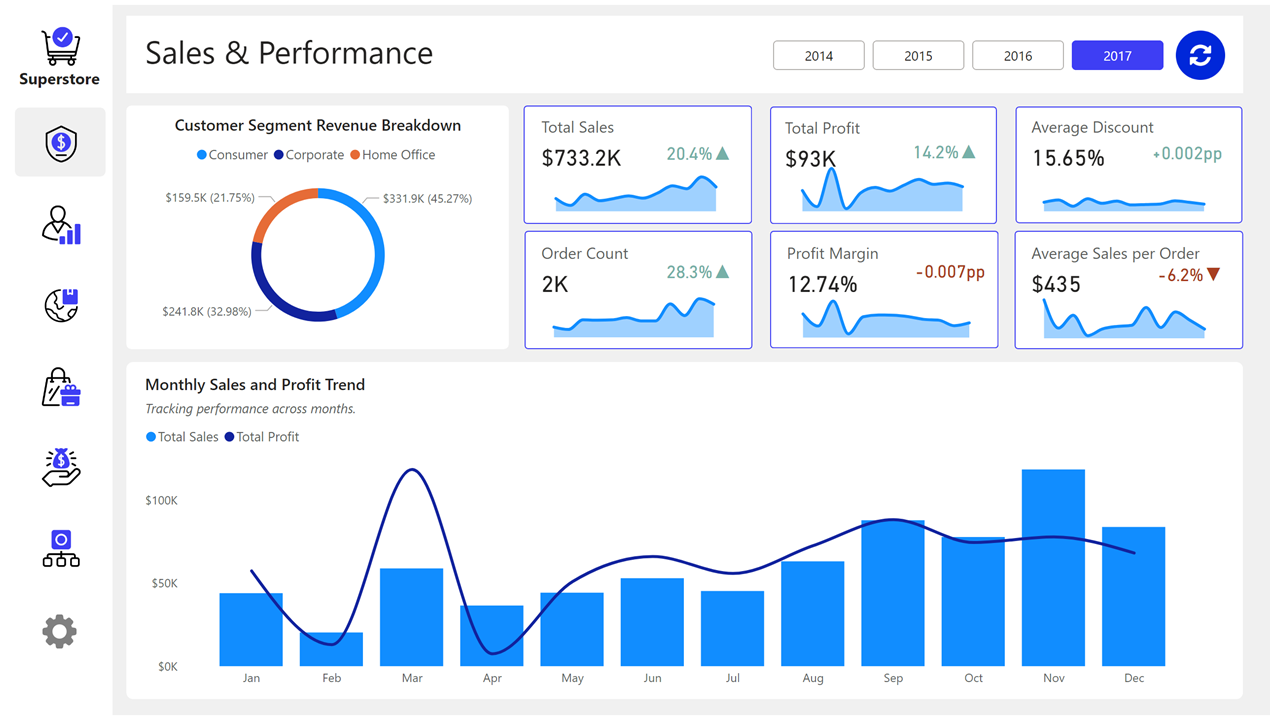

This screenshot's page, from the dashboard's own definition file:
{"tool":"powerbi","page":{"name":"Sales & Performance","canvas":[1280,720],"ordinal":1},"visuals":[{"type":"shape","box":[120,361.8,1132.7,341.8],"z":0},{"type":"shape","box":[120,102,388,247],"z":1000},{"type":"shape","box":[772.5,102.5,230,119.2],"z":2000},{"type":"shape","box":[523.3,101.7,231.7,120],"z":3000},{"type":"cardVisual","fields":{"Data":["Measures_.Total Sales"]},"box":[523.6,95,149,89],"z":4000},{"type":"lineClusteredColumnComboChart","title":"Monthly Sales and Profit Trend","fields":{"Category":["Order Date.Month"],"Y":["Measures_.Total Sales"],"Y2":["Measures_.Total Profit"]},"box":[133.5,373.1,1115.3,327.3],"z":5000},{"type":"donutChart","title":"Customer Segment Revenue Breakdown","fields":{"Category":["Customers.Customer Segment"],"Y":["Measures_.Total Sales"]},"box":[122.9,110,382.9,235.7],"z":6000},{"type":"shape","box":[120,11.4,1132.9,78.6],"z":7000},{"type":"textbox","box":[134.3,20,331.4,62.9],"z":8000},{"type":"advancedSlicerVisual","fields":{"Values":["Order Date.Year"]},"box":[771.4,31.4,408.6,40],"z":9000},{"type":"shape","box":[0,0,106,720],"z":10000},{"type":"image","box":[28.5,362,50,50],"z":11000},{"type":"image","box":[29.5,526,48,50],"z":12000},{"type":"image","box":[28.5,444,50,50],"z":13000},{"type":"shape","box":[6.9,104,92,70],"z":14000},{"type":"image","box":[29.5,116,48,50],"z":15000},{"type":"image","box":[31.5,280,44,50],"z":16000},{"type":"image","box":[28.5,198,50,50],"z":17000},{"type":"image","box":[25,17.1,56.7,50],"z":18000},{"type":"textbox","box":[3.3,58.3,98.3,41.7],"z":19000},{"type":"image","box":[1170,21.4,78.6,60],"z":20000},{"type":"cardVisual","fields":{"Data":["Measures_.Total Profit"]},"box":[771.1,95.6,115.2,89],"z":21000},{"type":"shape","box":[523.6,229,231,120],"z":22000},{"type":"cardVisual","fields":{"Data":["Measures_.Order Count"]},"box":[523.6,223.3,130,87.8],"z":23000},{"type":"shape","box":[772.5,229.2,231.7,119.2],"z":24000},{"type":"cardVisual","fields":{"Data":["Measures_.Profit Margin"]},"box":[772.9,222.5,130,87.8],"z":25000},{"type":"shape","box":[1021.7,103.3,230,118.3],"z":26000},{"type":"cardVisual","fields":{"Data":["Measures_.Average Discount"]},"box":[1021,95,162,89],"z":27000},{"type":"shape","box":[1020.9,229.1,231.8,120],"z":28000},{"type":"cardVisual","fields":{"Data":["Measures_.Average Sales per Order"]},"box":[1021.1,223.3,227.8,87.8],"z":29000},{"type":"card","fields":{"Values":["Measures_.Sales YoY %"]},"box":[660.8,132.9,80,35.7],"z":30000},{"type":"areaChart","fields":{"Category":["Order Date.MonthID"],"Y":["Measures_.Total Sales"]},"box":[526.5,151.4,251.4,64.3],"z":31000},{"type":"areaChart","fields":{"Category":["Order Date.MonthID"],"Y":["Measures_.Total Profit"]},"box":[776.1,150.6,251.4,64.3],"z":32000},{"type":"card","fields":{"Values":["Measures_.Profit YoY %"]},"box":[903.3,132.2,95.6,35.3],"z":33000},{"type":"areaChart","fields":{"Category":["Order Date.MonthID"],"Y":["Measures_.Order Count"]},"box":[523.6,278,251,65],"z":34000},{"type":"card","fields":{"Values":["Measures_.Order Count YoY %"]},"box":[660.8,252.9,80,35.7],"z":35000},{"type":"areaChart","fields":{"Category":["Order Date.MonthID"],"Y":["Measures_.Average Sales per Order"]},"box":[1021,278,252,65],"z":36000},{"type":"card","fields":{"Values":["Measures_.Avg Sales per Order YoY %"]},"box":[1158.6,255.7,80,35.7],"z":37000},{"type":"areaChart","fields":{"Category":["Order Date.MonthID"],"Y":["Measures_.Average Discount"]},"box":[1021.4,151.4,251.4,64.3],"z":38000},{"type":"areaChart","fields":{"Category":["Order Date.MonthID"],"Y":["Measures_.Profit Margin"]},"box":[775.7,278.6,260,64.3],"z":39000},{"type":"card","fields":{"Values":["Measures_.Average Discount YoY"]},"box":[1150,133.3,91.7,35],"z":40000},{"type":"card","fields":{"Values":["Measures_.Profit Margin YoY"]},"box":[907.2,252.7,96.9,35.3],"z":41000},{"type":"image","box":[26.9,612.9,50,44.3],"z":42000}]}

Visuals, with their boxes on the page's 1280x720 design canvas (x1, y1, x2, y2). These are canvas units, not pixel positions in the 1280x720 screenshot, which may show the page scaled, cropped or inside an application window:
shape: rect(120, 362, 1253, 704)
shape: rect(120, 102, 508, 349)
shape: rect(772, 102, 1002, 222)
shape: rect(523, 102, 755, 222)
cardVisual - Measures_.Total Sales: rect(524, 95, 673, 184)
"Monthly Sales and Profit Trend" lineClusteredColumnComboChart: rect(134, 373, 1249, 700)
"Customer Segment Revenue Breakdown" donutChart: rect(123, 110, 506, 346)
shape: rect(120, 11, 1253, 90)
textbox: rect(134, 20, 466, 83)
advancedSlicerVisual - Order Date.Year: rect(771, 31, 1180, 71)
shape: rect(0, 0, 106, 720)
image: rect(28, 362, 78, 412)
image: rect(30, 526, 78, 576)
image: rect(28, 444, 78, 494)
shape: rect(7, 104, 99, 174)
image: rect(30, 116, 78, 166)
image: rect(32, 280, 76, 330)
image: rect(28, 198, 78, 248)
image: rect(25, 17, 82, 67)
textbox: rect(3, 58, 102, 100)
image: rect(1170, 21, 1249, 81)
cardVisual - Measures_.Total Profit: rect(771, 96, 886, 185)
shape: rect(524, 229, 755, 349)
cardVisual - Measures_.Order Count: rect(524, 223, 654, 311)
shape: rect(772, 229, 1004, 348)
cardVisual - Measures_.Profit Margin: rect(773, 222, 903, 310)
shape: rect(1022, 103, 1252, 222)
cardVisual - Measures_.Average Discount: rect(1021, 95, 1183, 184)
shape: rect(1021, 229, 1253, 349)
cardVisual - Measures_.Average Sales per Order: rect(1021, 223, 1249, 311)
card - Measures_.Sales YoY %: rect(661, 133, 741, 169)
areaChart - Order Date.MonthID x Measures_.Total Sales: rect(526, 151, 778, 216)
areaChart - Order Date.MonthID x Measures_.Total Profit: rect(776, 151, 1028, 215)
card - Measures_.Profit YoY %: rect(903, 132, 999, 168)
areaChart - Order Date.MonthID x Measures_.Order Count: rect(524, 278, 775, 343)
card - Measures_.Order Count YoY %: rect(661, 253, 741, 289)
areaChart - Order Date.MonthID x Measures_.Average Sales per Order: rect(1021, 278, 1273, 343)
card - Measures_.Avg Sales per Order YoY %: rect(1159, 256, 1239, 291)
areaChart - Order Date.MonthID x Measures_.Average Discount: rect(1021, 151, 1273, 216)
areaChart - Order Date.MonthID x Measures_.Profit Margin: rect(776, 279, 1036, 343)
card - Measures_.Average Discount YoY: rect(1150, 133, 1242, 168)
card - Measures_.Profit Margin YoY: rect(907, 253, 1004, 288)
image: rect(27, 613, 77, 657)
